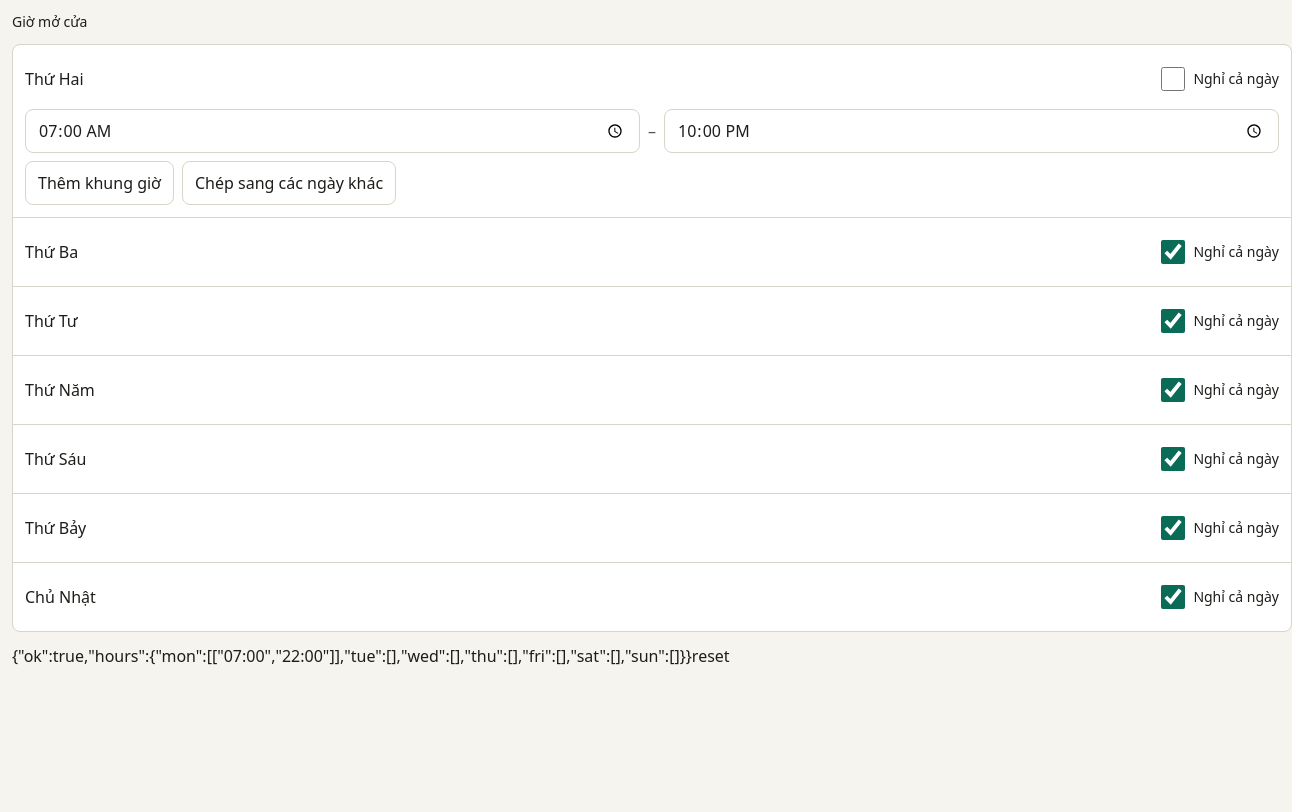
Scenario: OpeningHoursEditor › shows a time error once an emptied field loses focus
The width and height of the screenshot is (1292, 812).
Clear the time field named "Thứ Hai, giờ mở khung 1" at [332, 131], box 25,109 -> 640,153
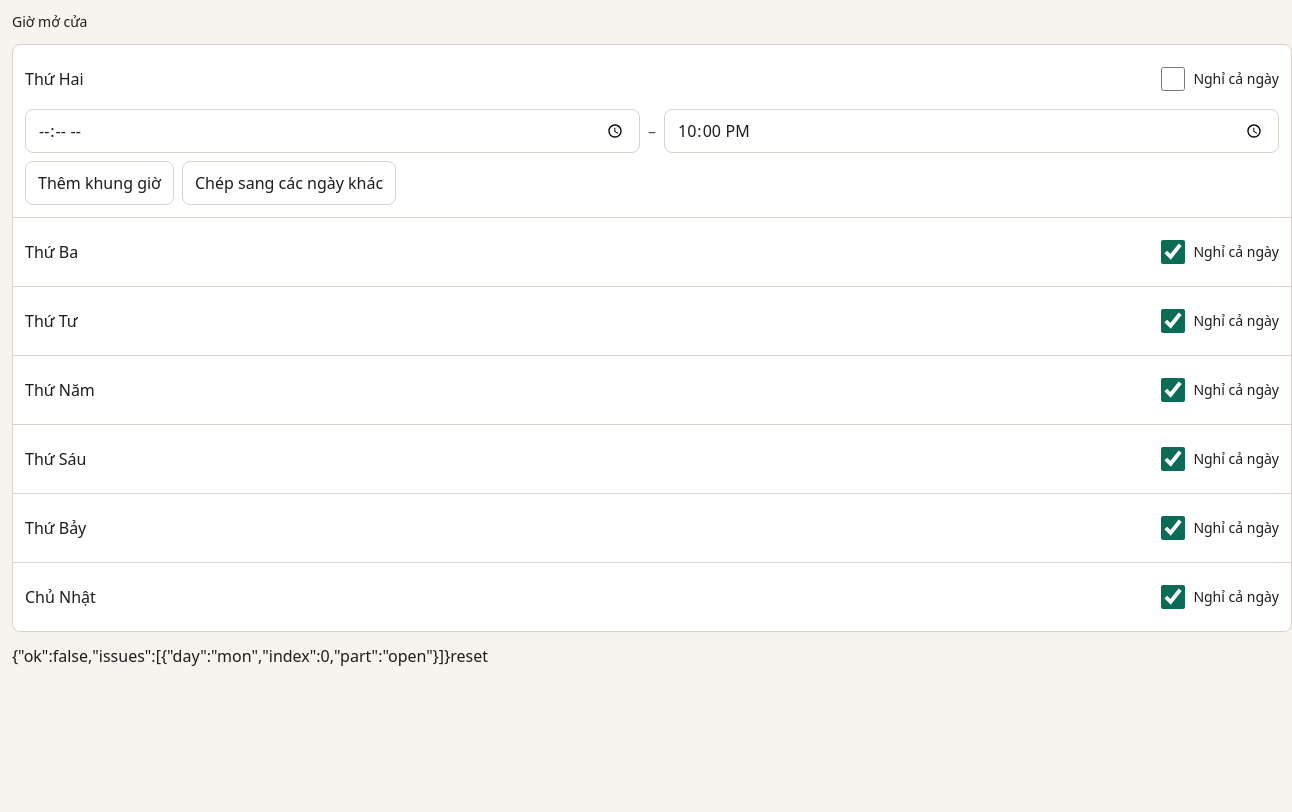
Check: the text "Nhập giờ dạng giờ:phút" is not shown
Click the time field named "Thứ Hai, giờ mở khung 1" at [332, 131], box 25,109 -> 640,153
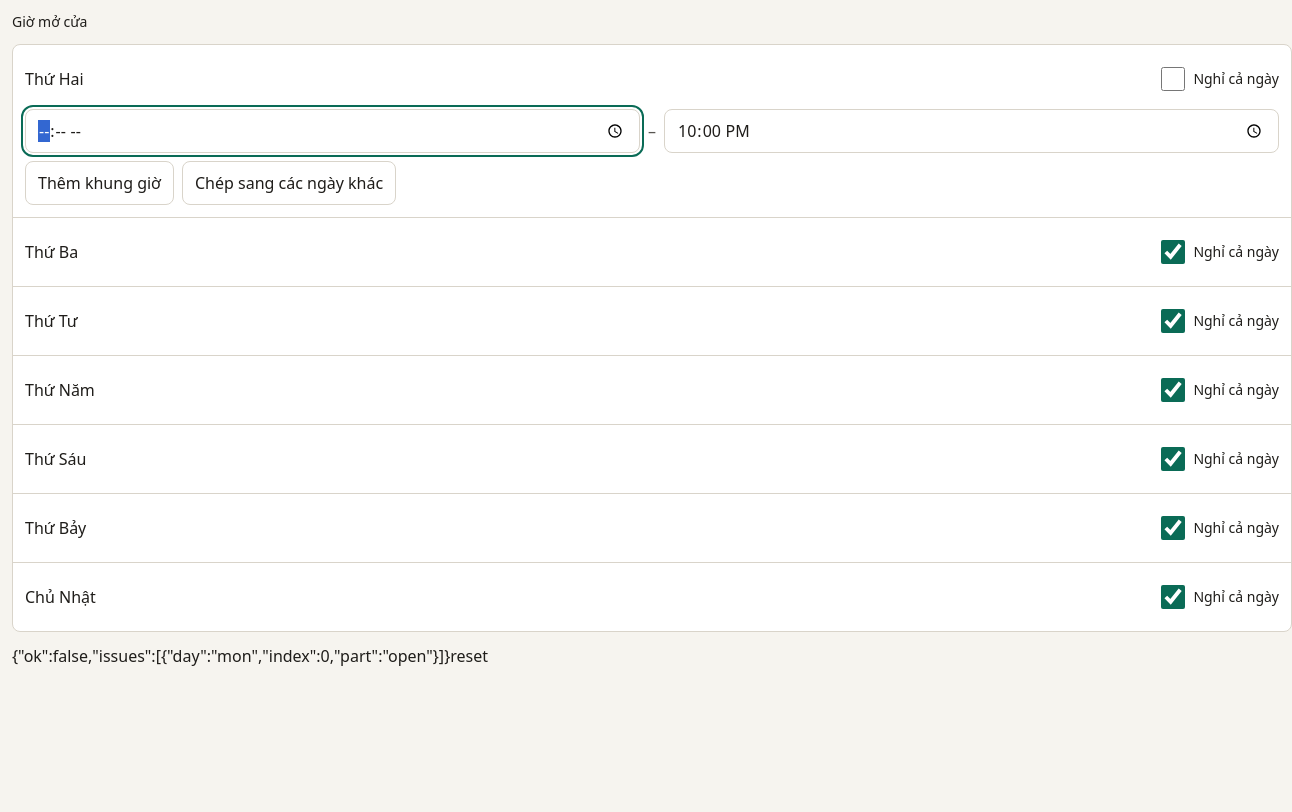
Press Tab
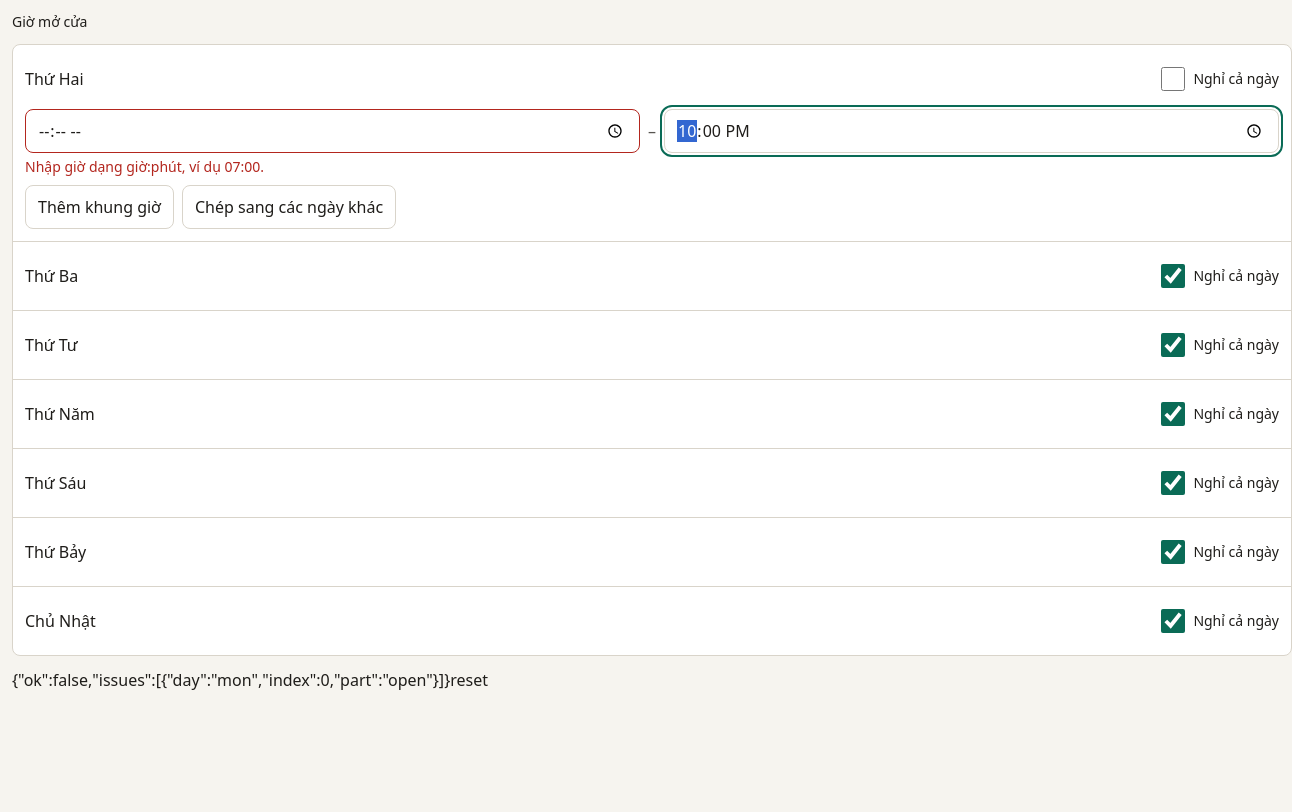
Check: the text "Nhập giờ dạng giờ:phút, ví dụ 07:00." is shown, box 25,157 -> 264,176
